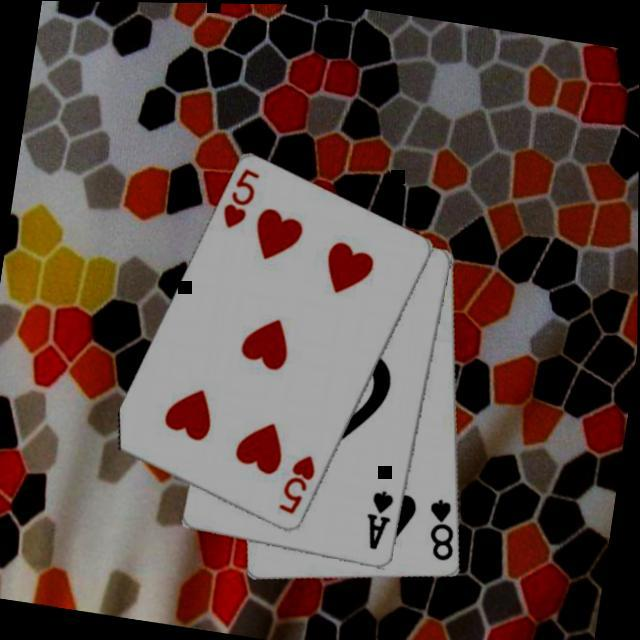5H: (276, 451, 321, 522), (220, 165, 265, 236)
8S: (423, 496, 466, 566)
AS: (361, 487, 400, 556)
